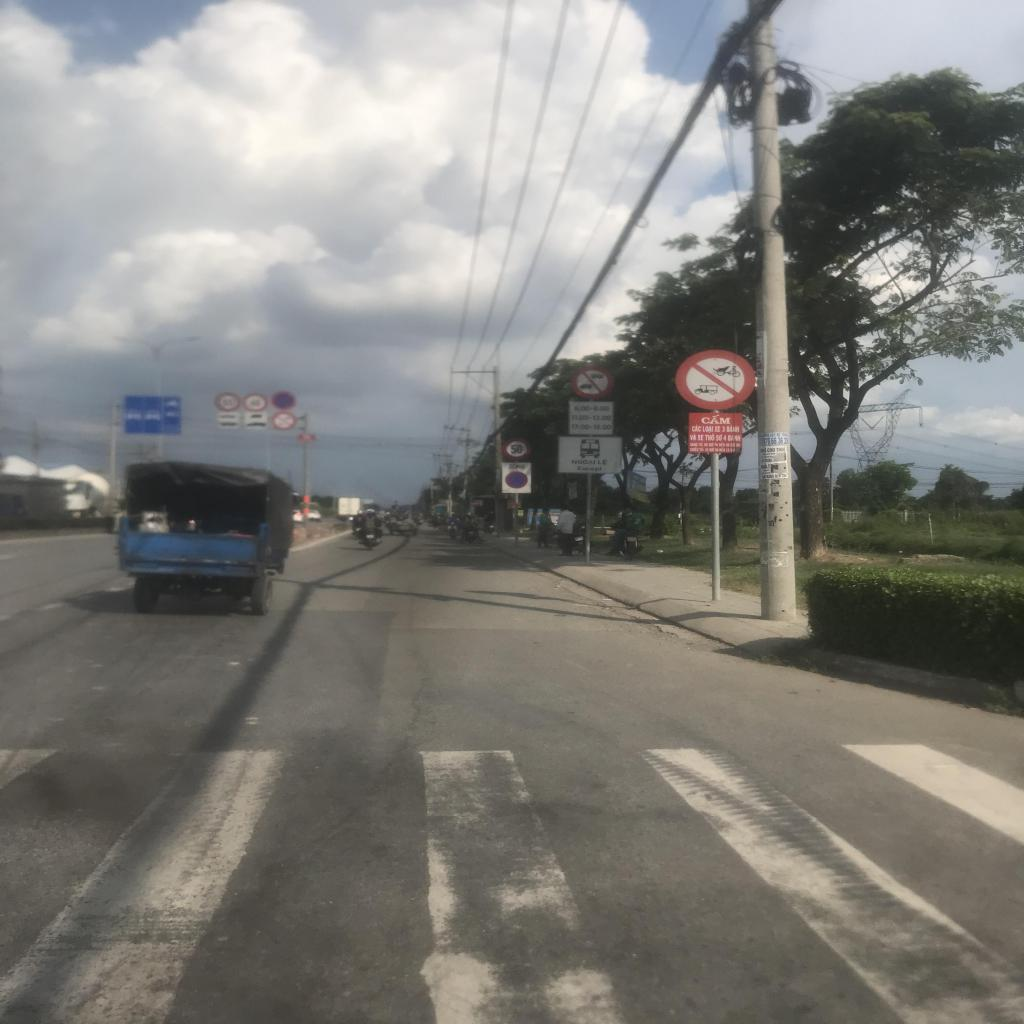cam_cac_loai_xe_3_banh: (675, 350, 755, 410)
cam_dung_xe_va_do_xe: (273, 391, 297, 410), (504, 470, 528, 488)
cam_o_to_tai_va_xe_khach: (571, 366, 614, 399)
cam_xe_2_banh_va_xe_3_banh_co_dong_co: (272, 411, 297, 430)
khac: (558, 436, 622, 473), (568, 400, 613, 434), (216, 420, 239, 429), (244, 413, 267, 422), (244, 421, 266, 430), (216, 412, 238, 420)
lan_duong_cho_tung_xe_theo_vach_ke_duong: (124, 396, 182, 436)
toc_do_toi_da_50: (502, 438, 531, 460)
toc_do_toi_da_60: (242, 392, 268, 412)
toc_do_toi_da_80: (214, 392, 241, 412)
